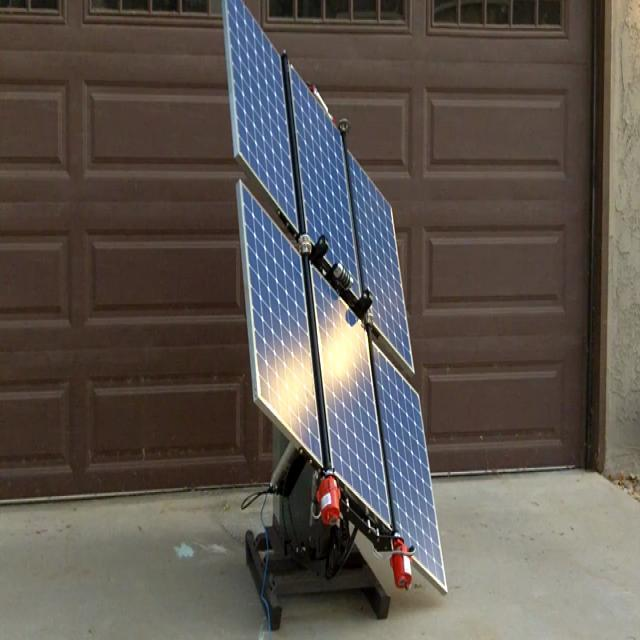Normal Solar Panel: (238, 182, 322, 461), (314, 269, 390, 524), (375, 344, 448, 593), (224, 1, 297, 229), (291, 65, 359, 291), (350, 152, 415, 373)
